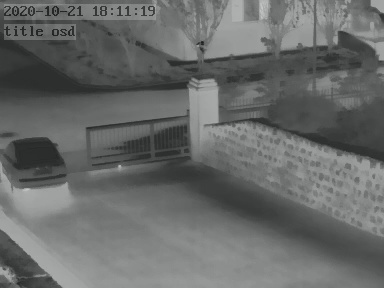vehicle: (2, 134, 69, 194)
